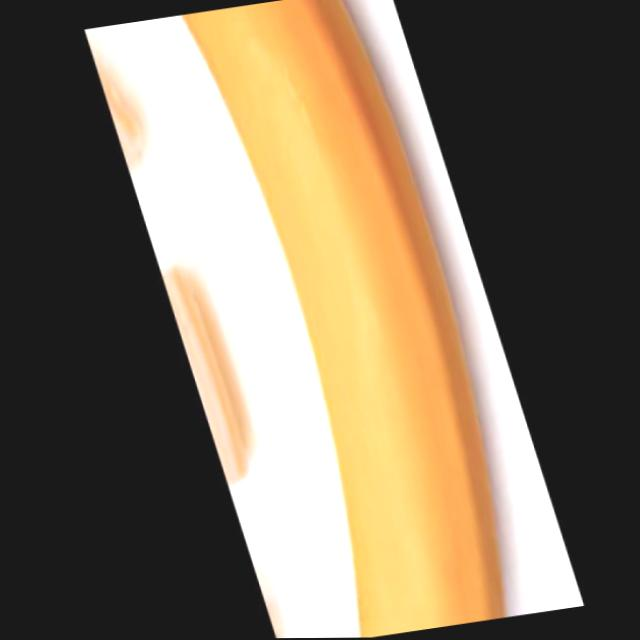Banana: (181, 0, 512, 639)
